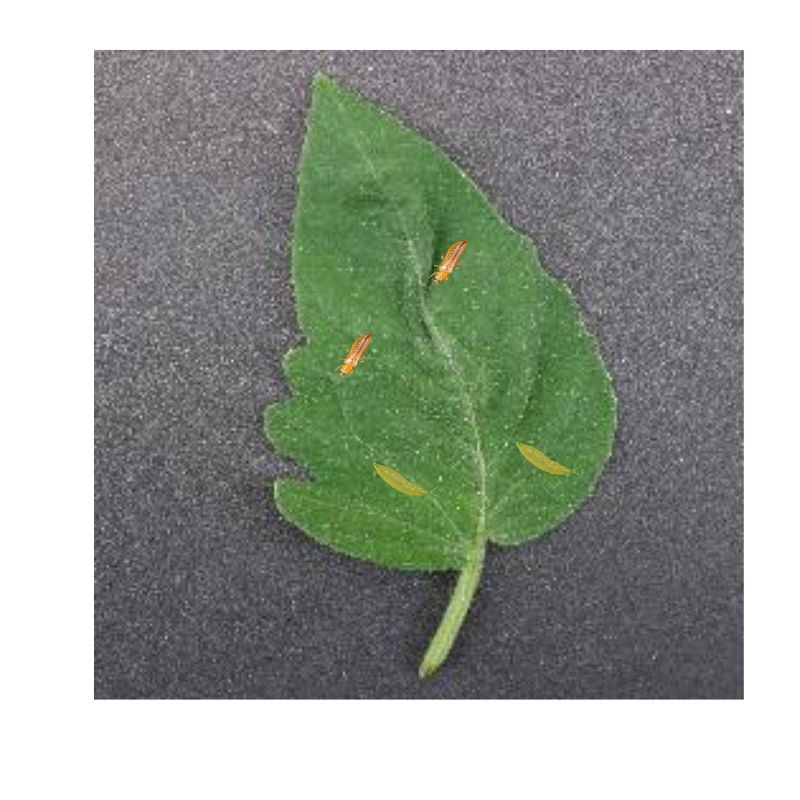thrips: (372, 460, 437, 497), (515, 440, 578, 477), (333, 331, 376, 377), (428, 237, 467, 286)
